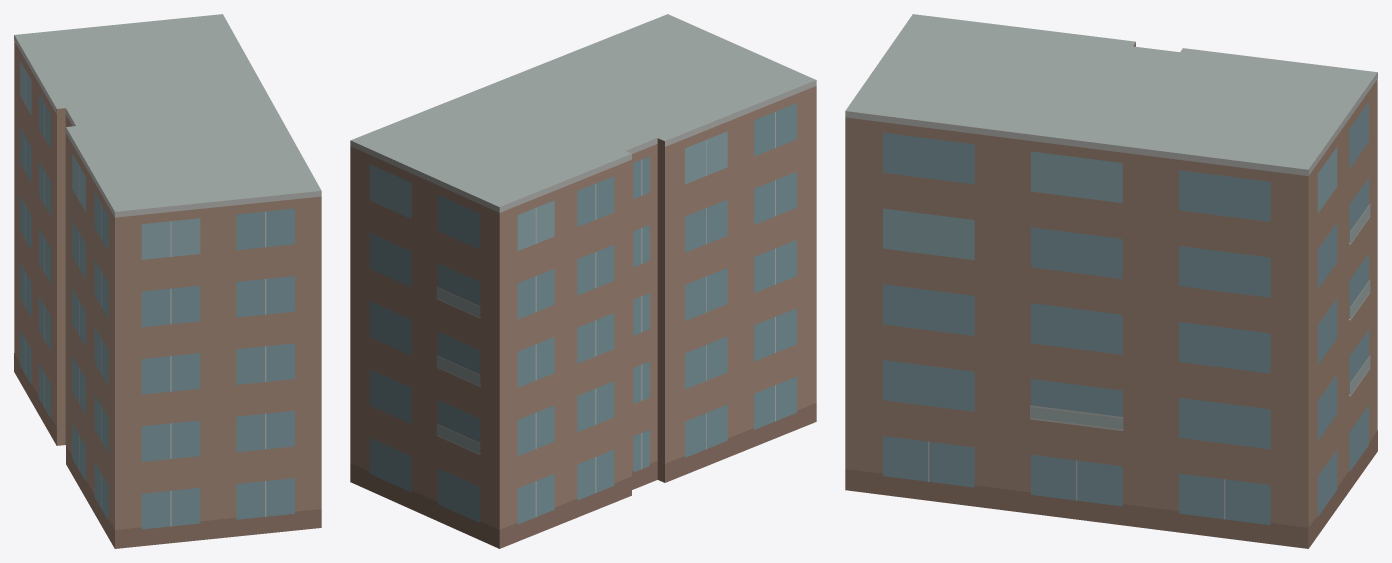
The model's file is survey-upis-32876931.glb.
The picture shows the model from 3 angles, left to right: view 1: azimuth 30°, elevation 25°; view 2: azimuth 150°, elevation 25°; view 3: azimuth 270°, elevation 25°; orthographic projection. The views are drawn at different scales.
Parts seen in each view (by area): view 1: survey-upis-32876931.tmp; view 2: survey-upis-32876931.tmp; view 3: survey-upis-32876931.tmp.
Part boxes in pixels (box(x1,y1,x2,y2)): survey-upis-32876931.tmp: box(14, 14, 321, 548); survey-upis-32876931.tmp: box(350, 14, 816, 548); survey-upis-32876931.tmp: box(845, 14, 1377, 548).
Bounding box in the file's own units: 12.79 × 14.5 × 18.47.
